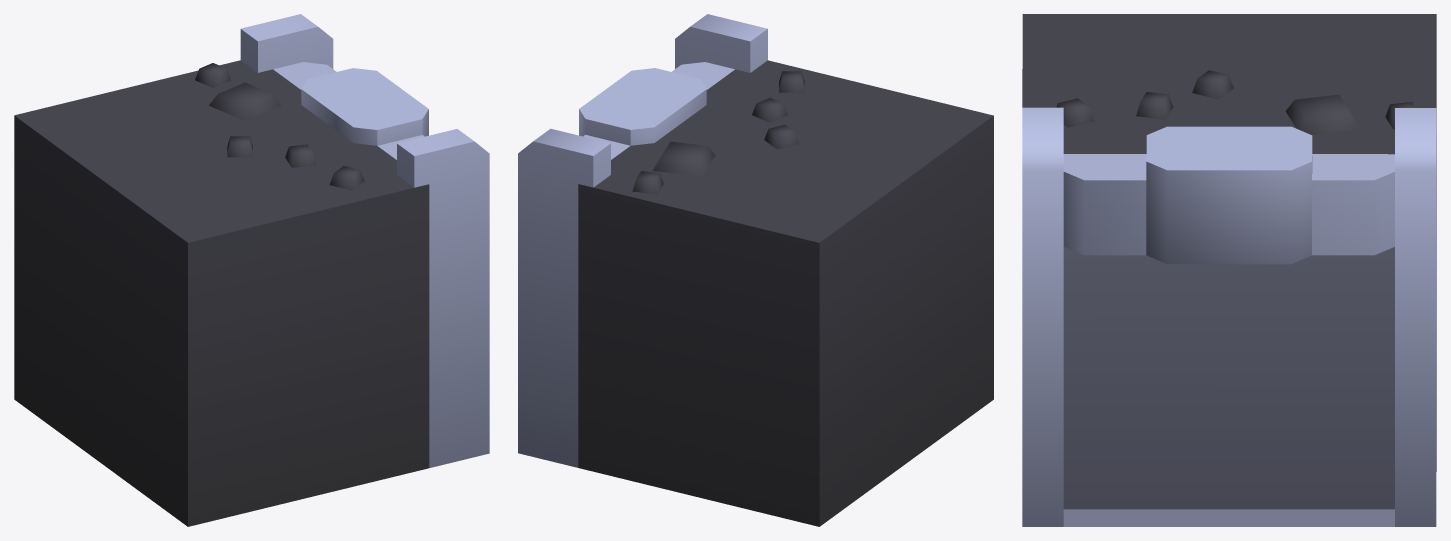
Rendered from wall-half.003_lev5.glb.
3 renders of one model, left to right at view 1: azimuth 30°, elevation 25°; view 2: azimuth 150°, elevation 25°; view 3: azimuth 270°, elevation 25°, orthographic. The views are drawn at different scales.
Parts seen in each view (by area): view 1: wall-half.003_lev5; view 2: wall-half.003_lev5; view 3: wall-half.003_lev5.
Part boxes in pixels (box(x1,y1,x2,y2)): wall-half.003_lev5: box(14, 14, 489, 526); wall-half.003_lev5: box(518, 14, 993, 526); wall-half.003_lev5: box(1022, 14, 1436, 526).
Size of the model in its own units: 4 by 4 by 4.
1 material, 1 textured.
